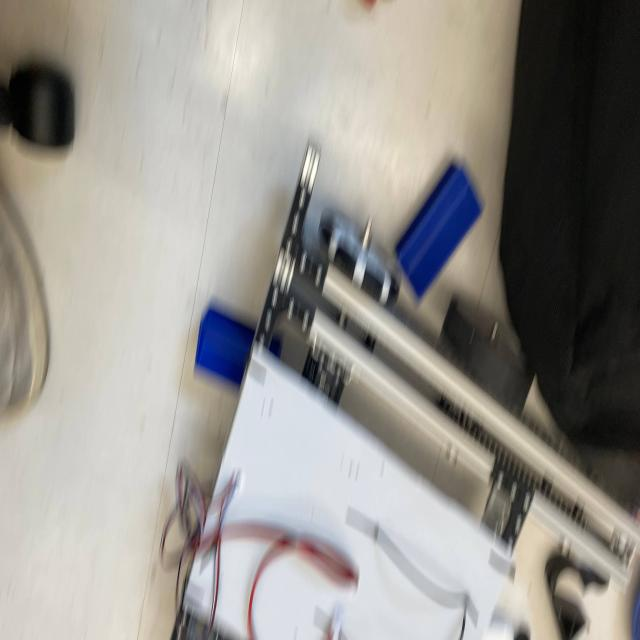blue-specimen: (395, 163, 482, 300), (195, 303, 254, 388), (195, 303, 254, 386), (268, 336, 282, 358)
yellow-specimen: (360, 0, 376, 9)
